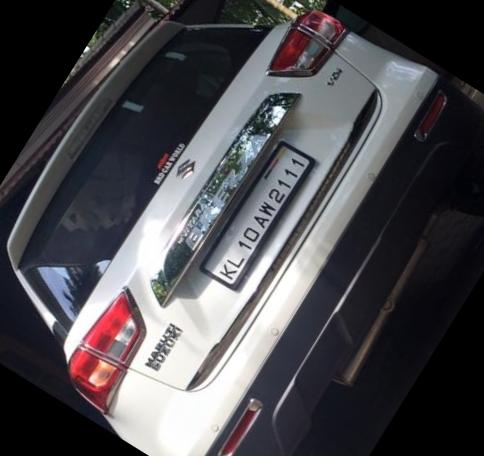plate: (188, 124, 338, 306)
